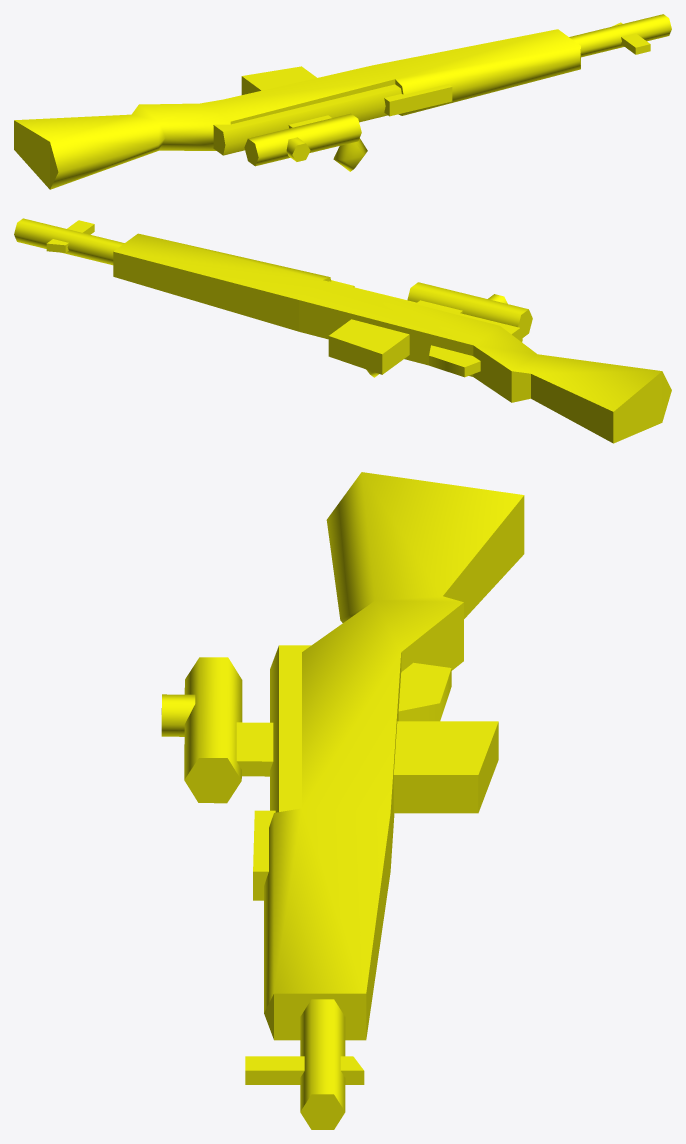
Rendered from weapon_svt40_scope.glb.
3 renders of one model, top to bottom at view 1: azimuth 30°, elevation 25°; view 2: azimuth 150°, elevation 25°; view 3: azimuth 270°, elevation 25°, orthographic. The views are drawn at different scales.
Visible parts, largest first — view 1: weapon_svt40_scope; view 2: weapon_svt40_scope; view 3: weapon_svt40_scope.
Part boxes in pixels (x1,y1,x2,y2): weapon_svt40_scope: (14,14,671,189); weapon_svt40_scope: (14,218,671,443); weapon_svt40_scope: (161,472,524,1129).
Size of the model in its own units: 1.81 by 0.249 by 0.4678.
Materials: 1 (1 with a texture image).
